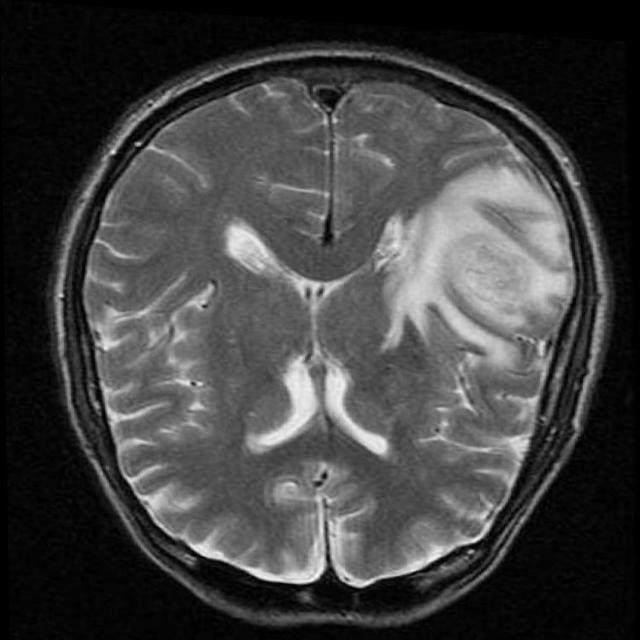Tumor: (384, 160, 575, 346)
